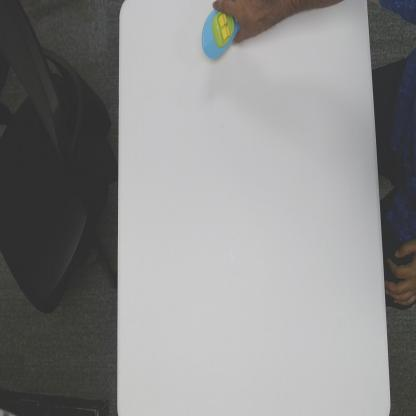Boat: (201, 6, 240, 62)
Hand: (211, 0, 275, 46)
